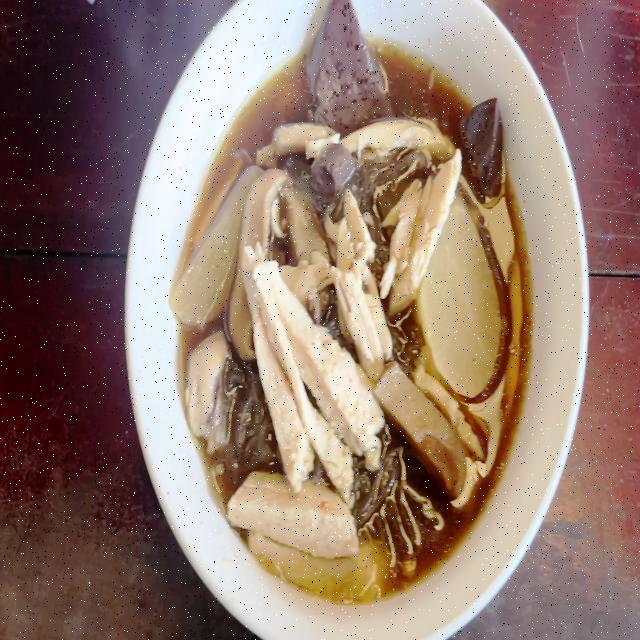boiled_chicken_blood_jelly: (302, 0, 385, 126), (466, 99, 511, 198), (311, 141, 348, 195)
chicken_shredded: (244, 251, 370, 473), (329, 195, 388, 355), (392, 157, 457, 299), (228, 467, 342, 544), (339, 118, 450, 158), (186, 332, 228, 434), (266, 114, 331, 153)
daikon_radish: (175, 170, 248, 316), (430, 228, 494, 386)
noodle: (180, 38, 526, 608)
